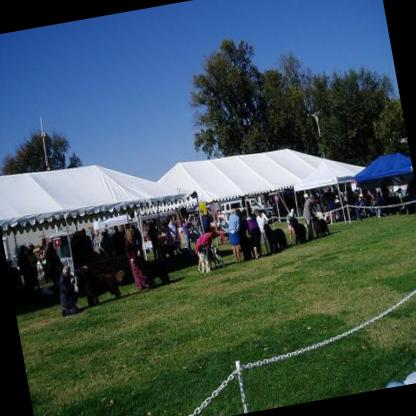Newfoundland: (126, 244, 172, 292), (305, 204, 330, 238)
